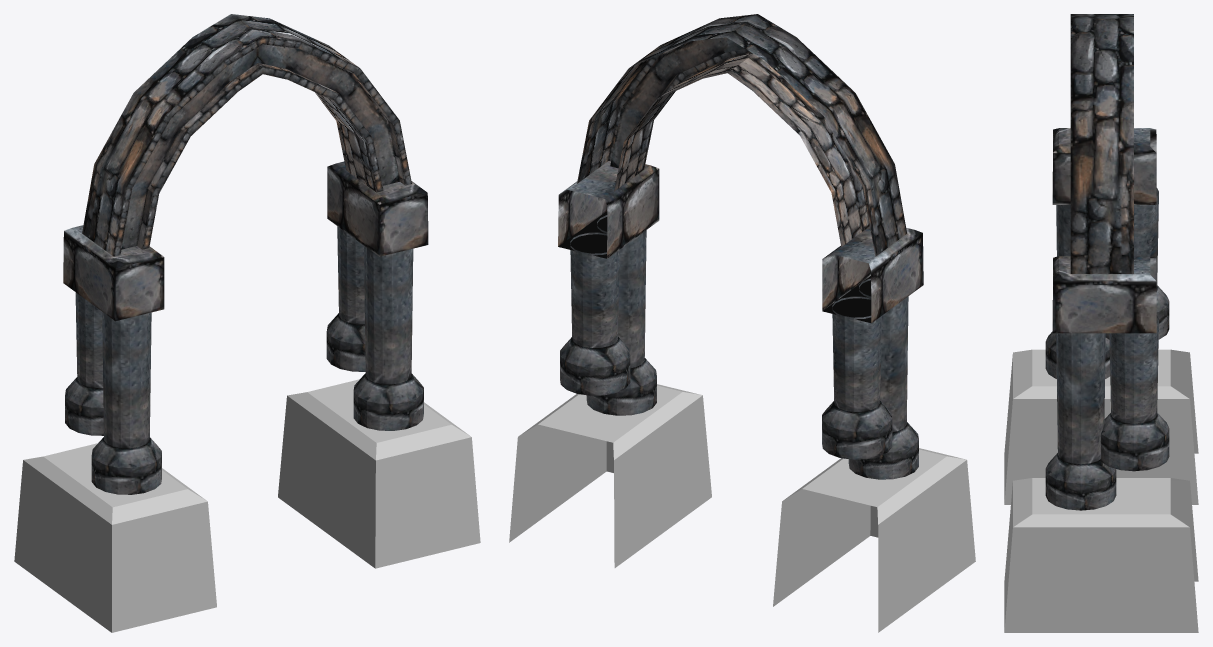
Rendered from CryptArcSm.fbx.
3 views of the same model, side by side, from view 1: azimuth 30°, elevation 25°; view 2: azimuth 150°, elevation 25°; view 3: azimuth 270°, elevation 25° (orthographic).
Parts seen in each view (by area): view 1: Cylinder.007; view 2: Cylinder.007; view 3: Cylinder.007.
Part boxes in pixels (x1=…): Cylinder.007: x1=14, y1=14, x2=480, y2=632; Cylinder.007: x1=509, y1=14, x2=975, y2=632; Cylinder.007: x1=1004, y1=14, x2=1198, y2=632.
Bounding box in the file's own units: 213 × 291 × 97.63.
